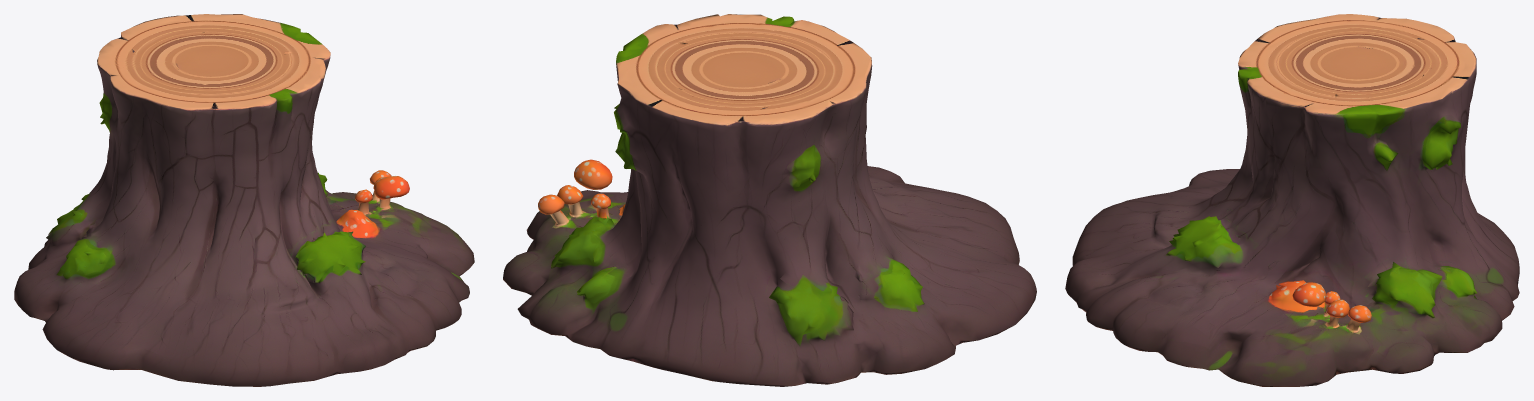
File: forest_stump.glb
3 views of the same model, side by side, from view 1: azimuth 30°, elevation 25°; view 2: azimuth 150°, elevation 25°; view 3: azimuth 270°, elevation 25° (orthographic). The views are drawn at different scales.
Bounding box in the file's own units: 1.88 × 0.9159 × 1.73.
1 material, 1 textured.
